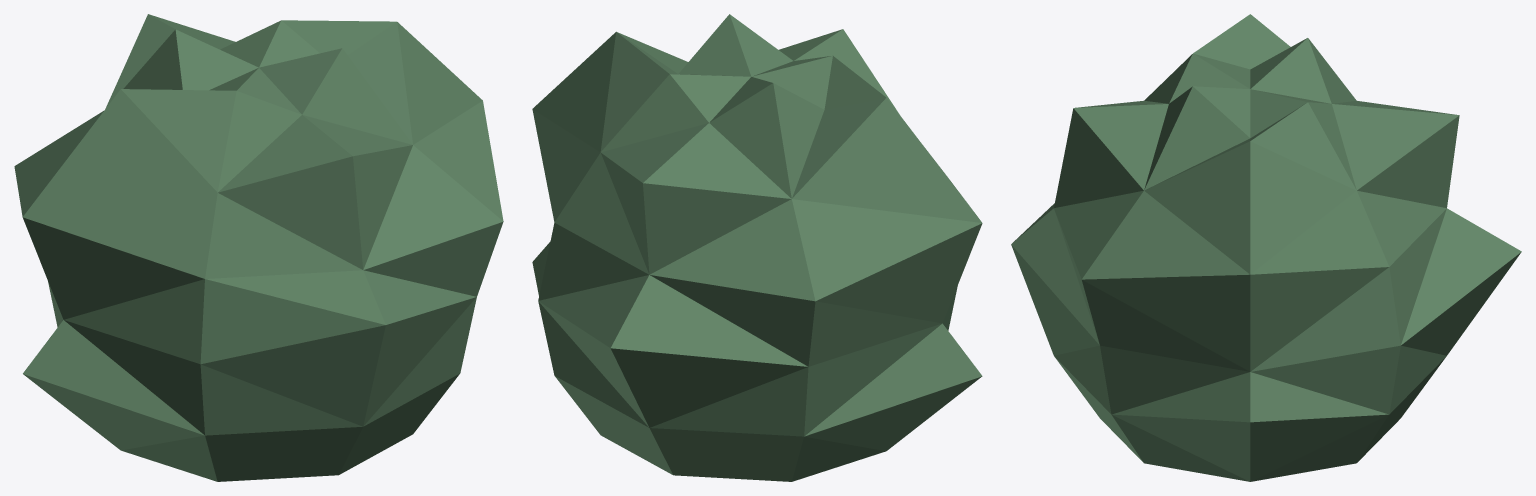
Rendered from MeadowsBush.glb.
3 renders of one model, left to right at view 1: azimuth 30°, elevation 25°; view 2: azimuth 150°, elevation 25°; view 3: azimuth 270°, elevation 25°, orthographic. The views are drawn at different scales.
Parts seen in each view (by area): view 1: |codex_meadow_temporary:pSphere1_codex_meadow_temporary:lamb; view 2: |codex_meadow_temporary:pSphere1_codex_meadow_temporary:lamb; view 3: |codex_meadow_temporary:pSphere1_codex_meadow_temporary:lamb.
Part boxes in pixels (x1,y1,x2,y2): |codex_meadow_temporary:pSphere1_codex_meadow_temporary:lamb: (14,14,503,481); |codex_meadow_temporary:pSphere1_codex_meadow_temporary:lamb: (532,14,982,481); |codex_meadow_temporary:pSphere1_codex_meadow_temporary:lamb: (1011,14,1521,481).
Bounding box in the file's own units: 6.35 × 5.07 × 6.48.
